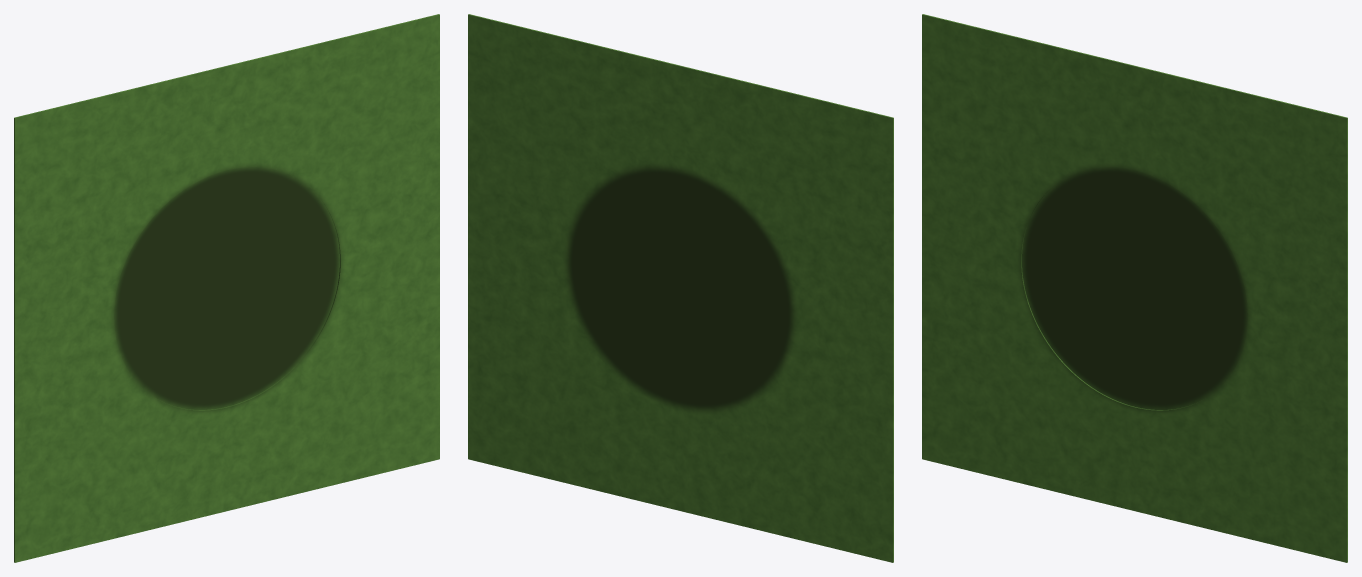
File: terrain.obj
3 renders of one model, left to right at view 1: azimuth 30°, elevation 25°; view 2: azimuth 150°, elevation 25°; view 3: azimuth 330°, elevation 25°, orthographic.
Parts seen in each view (by area): view 1: Terrain_export; view 2: Terrain_export; view 3: Terrain_export.
Boxes of the visible parts, bbox=[...] form: Terrain_export: bbox=[14, 14, 439, 562]; Terrain_export: bbox=[468, 14, 893, 562]; Terrain_export: bbox=[922, 14, 1347, 562].
Size of the model in its own units: 1500 by 1500 by 5.
